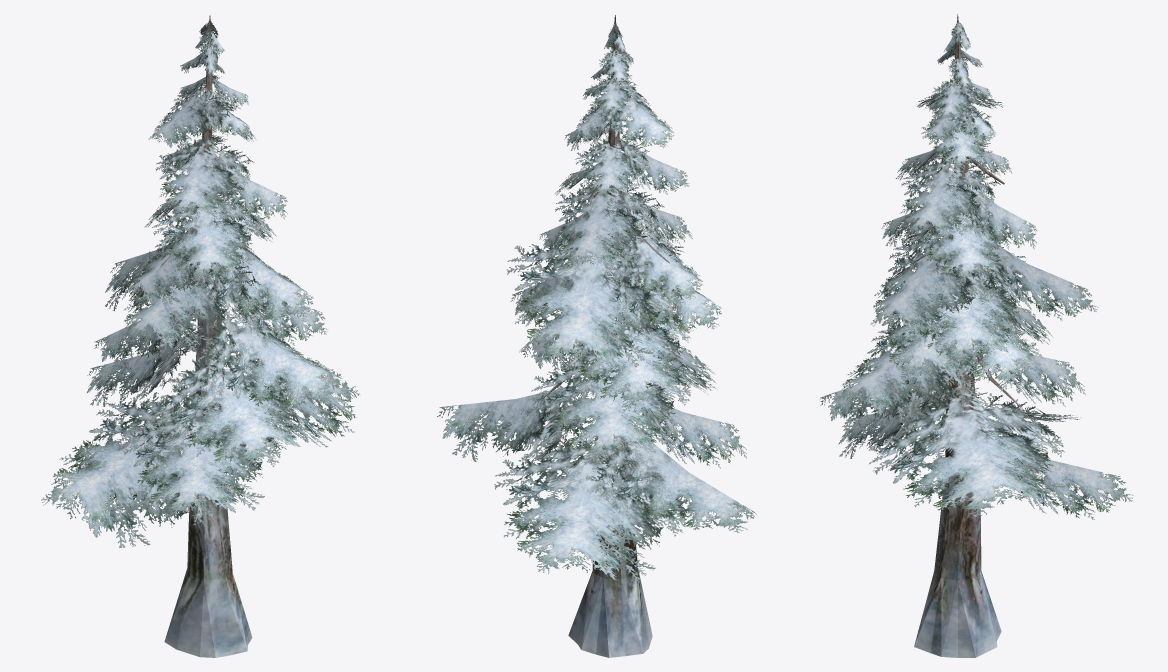
The model's file is Ice_tree01.FBX.
3 renders of one model, left to right at view 1: azimuth 30°, elevation 25°; view 2: azimuth 150°, elevation 25°; view 3: azimuth 270°, elevation 25°, orthographic.
Parts seen in each view (by area): view 1: polySurface263, Group003; view 2: polySurface263, Group003; view 3: polySurface263, Group003.
Boxes of the visible parts, box(x1,y1,x2,y2) form: polySurface263: box(41, 21, 359, 548); Group003: box(160, 15, 264, 657); polySurface263: box(437, 21, 756, 581); Group003: box(542, 15, 669, 657); polySurface263: box(820, 21, 1133, 519); Group003: box(914, 14, 1020, 657).
Size of the model in its own units: 652 by 1155 by 580.
